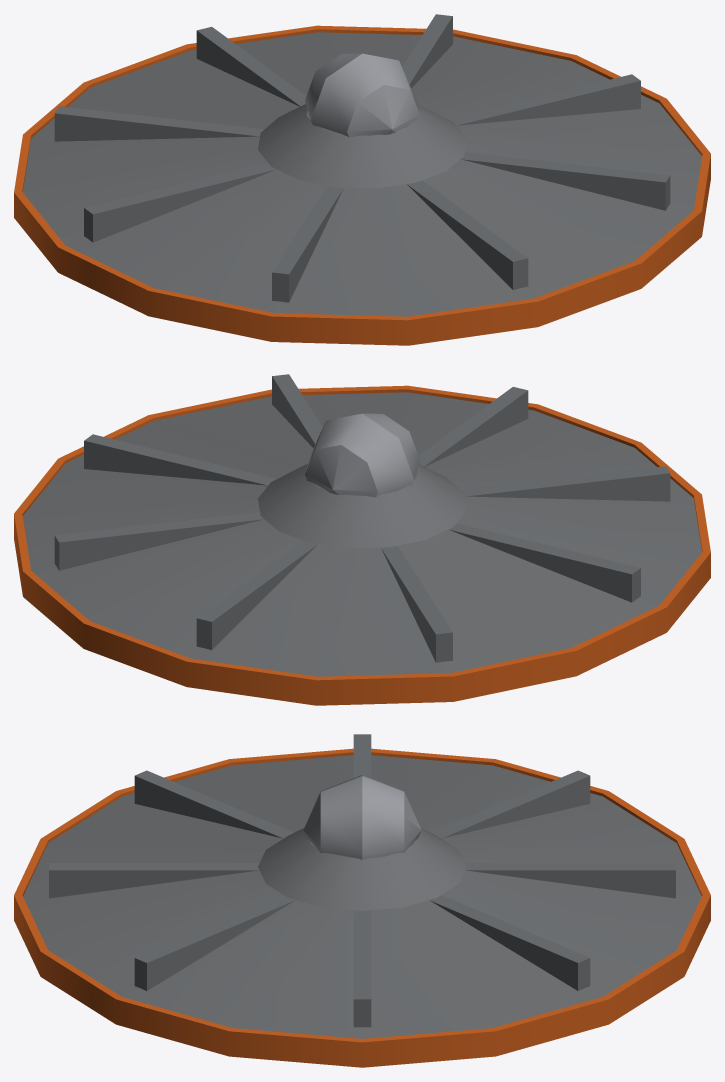
The model's file is po4_foot.obj.
The picture shows the model from 3 angles, top to bottom: view 1: azimuth 30°, elevation 25°; view 2: azimuth 150°, elevation 25°; view 3: azimuth 270°, elevation 25°; orthographic projection.
Visible parts, largest first — view 1: po4_foot; view 2: po4_foot; view 3: po4_foot.
Part boxes in pixels (box(x1,y1,x2,y2)): po4_foot: box(14, 14, 710, 345); po4_foot: box(14, 374, 710, 705); po4_foot: box(14, 734, 710, 1067).
Bounding box in the file's own units: 2 × 0.485 × 2.
